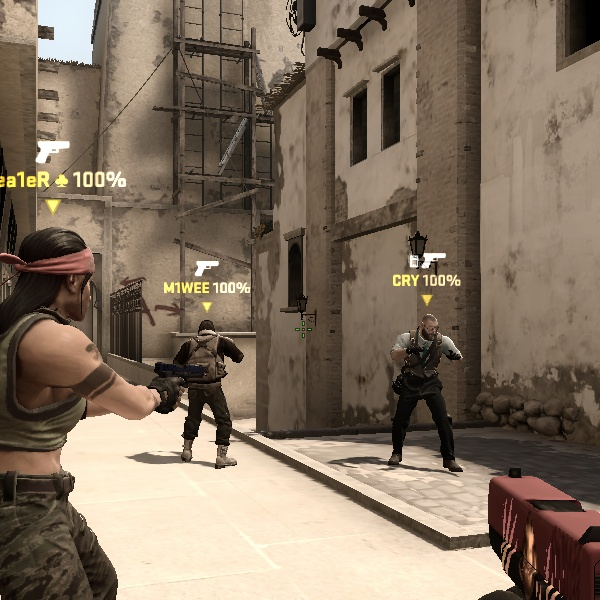t_body: (1, 226, 160, 562), (370, 303, 469, 475), (168, 316, 252, 469)
t_head: (8, 227, 110, 334), (410, 309, 450, 348), (195, 316, 223, 344)
